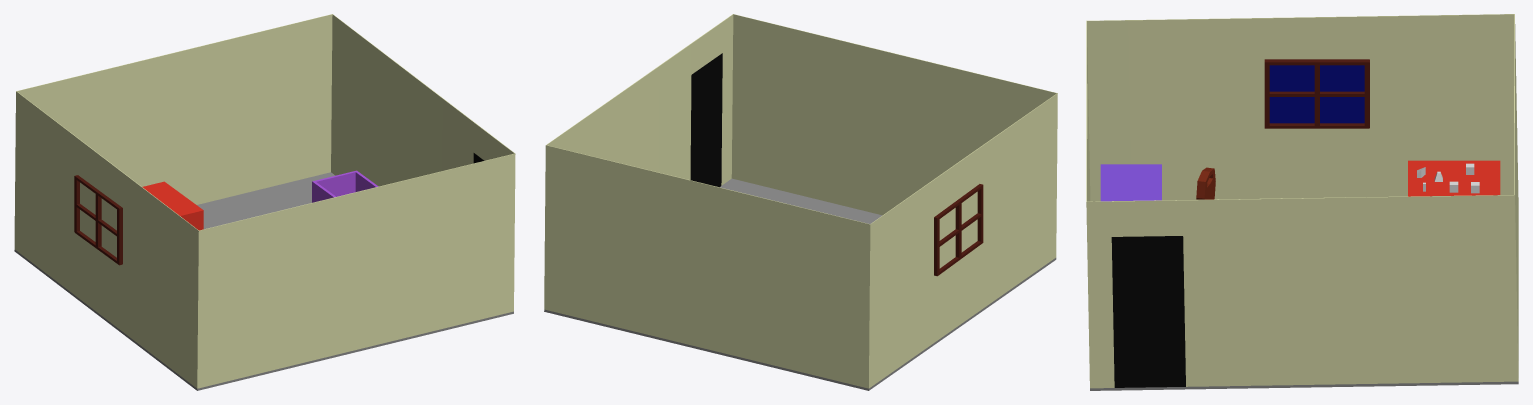
Rendered from Chambre.fbx.
3 renders of one model, left to right at view 1: azimuth 30°, elevation 25°; view 2: azimuth 150°, elevation 25°; view 3: azimuth 270°, elevation 25°, orthographic. The views are drawn at different scales.
Visible parts, largest first — view 1: Room, sol, fenetre, valise, lit; view 2: Room, sol, fenetre; view 3: Room, fenetre, lit, table, sol, chaise|barres_L_chaise.blend|Dupli|2.
Part boxes in pixels (box(x1,y1,x2,y2)): Room: box(14, 14, 515, 388); sol: box(14, 172, 513, 390); fenetre: box(74, 175, 122, 265); valise: box(312, 170, 378, 202); lit: box(142, 181, 203, 230); Room: box(544, 14, 1057, 388); sol: box(544, 178, 1056, 390); fenetre: box(934, 184, 983, 276); Room: box(1086, 14, 1518, 388); fenetre: box(1264, 59, 1369, 128); lit: box(1408, 160, 1500, 196); table: box(1100, 164, 1161, 201); sol: box(1090, 381, 1518, 390); chaise|barres_L_chaise.blend|Dupli|2: box(1196, 167, 1215, 199).
Size of the model in its own units: 505 by 252 by 504.
